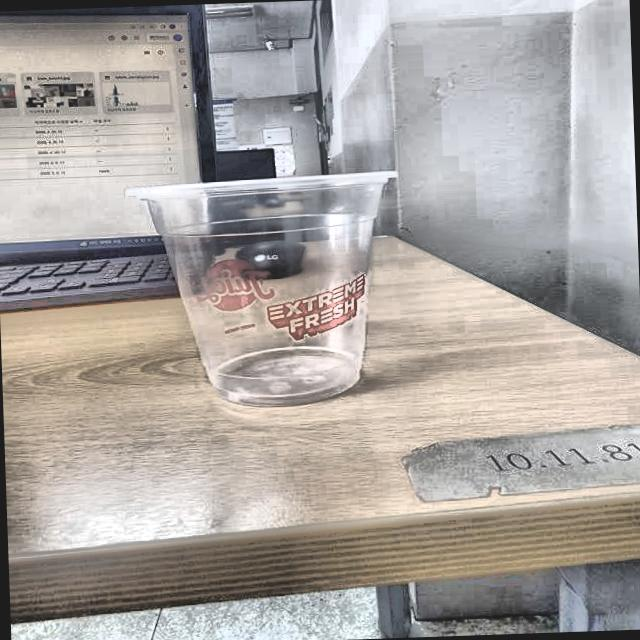plastic cup: (128, 168, 410, 410)
